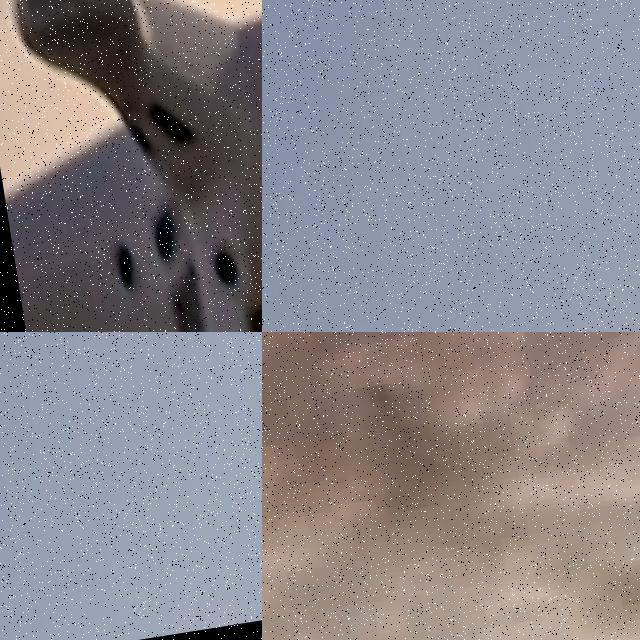drone: (0, 0, 262, 332)
